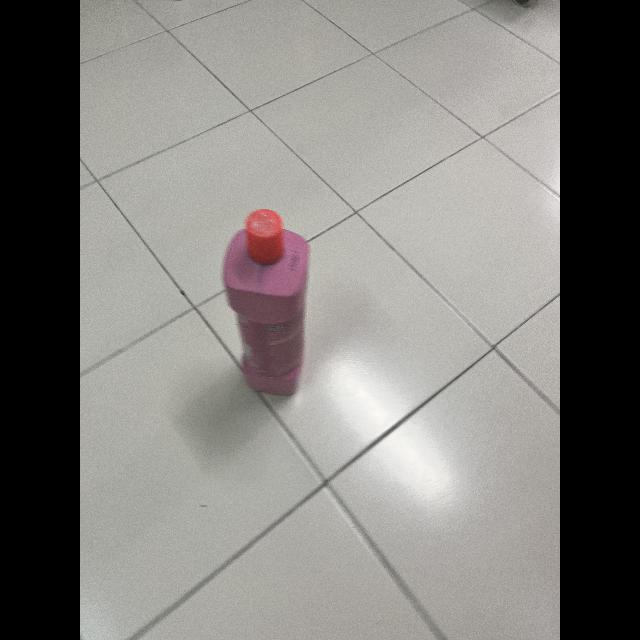chemical_plastic_bottle: (213, 204, 313, 400)
